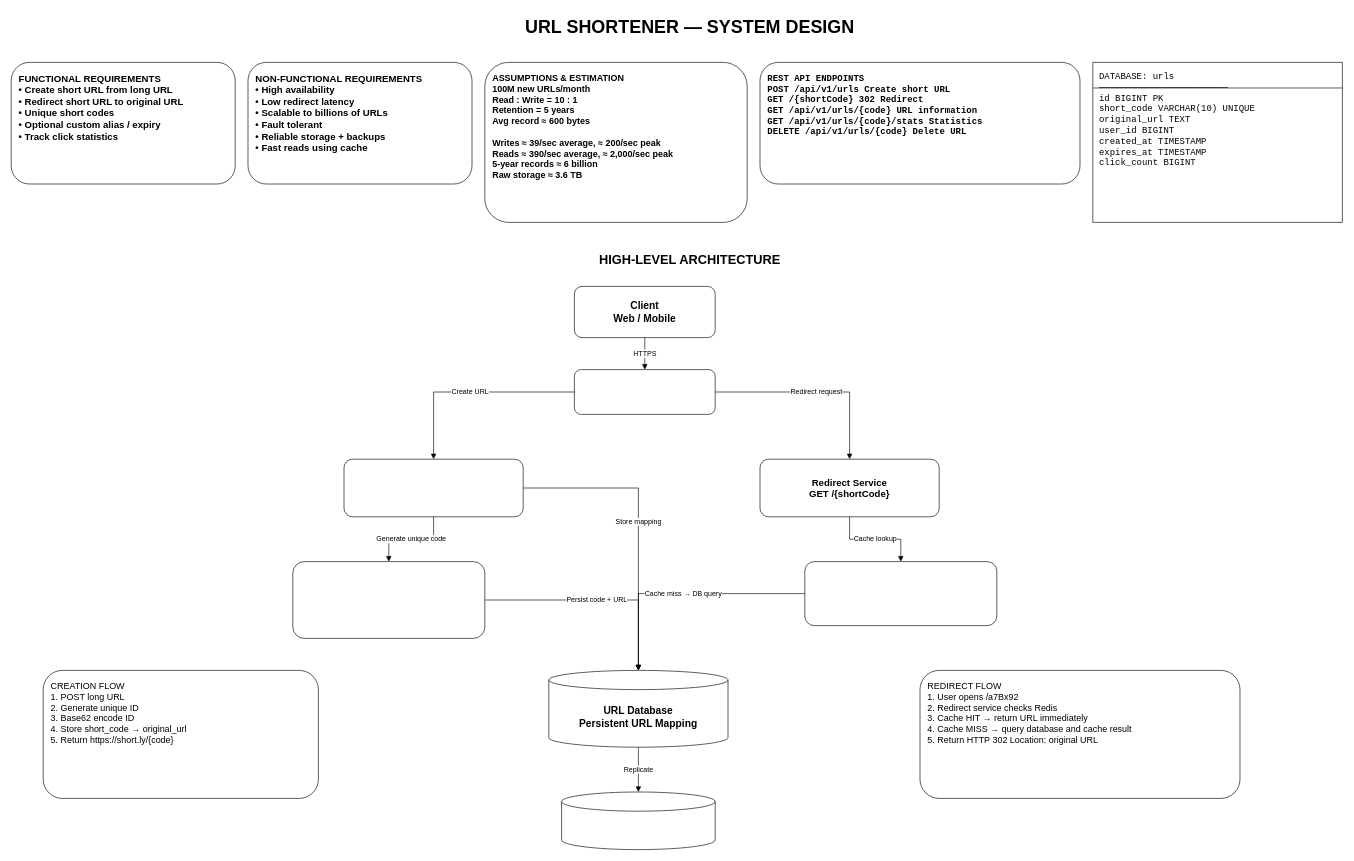
The diagram is 1354 pixels wide and 861 high, and some of its shapes have lost their labels. The box of each missing label's shape, as (x1, y1, x2, y2) in pixels:
ID Generator + Base62 Encoder a-z A-Z 0-9 62⁷ ≈ 3.52 trillion codes: (292, 561, 485, 638)
Load Balancer: (574, 369, 715, 414)
Redis Cache short_code → original_url: (804, 561, 997, 626)
Replication / Backup: (561, 791, 715, 850)
URL Shortening Service POST /api/v1/urls: (343, 459, 523, 517)
